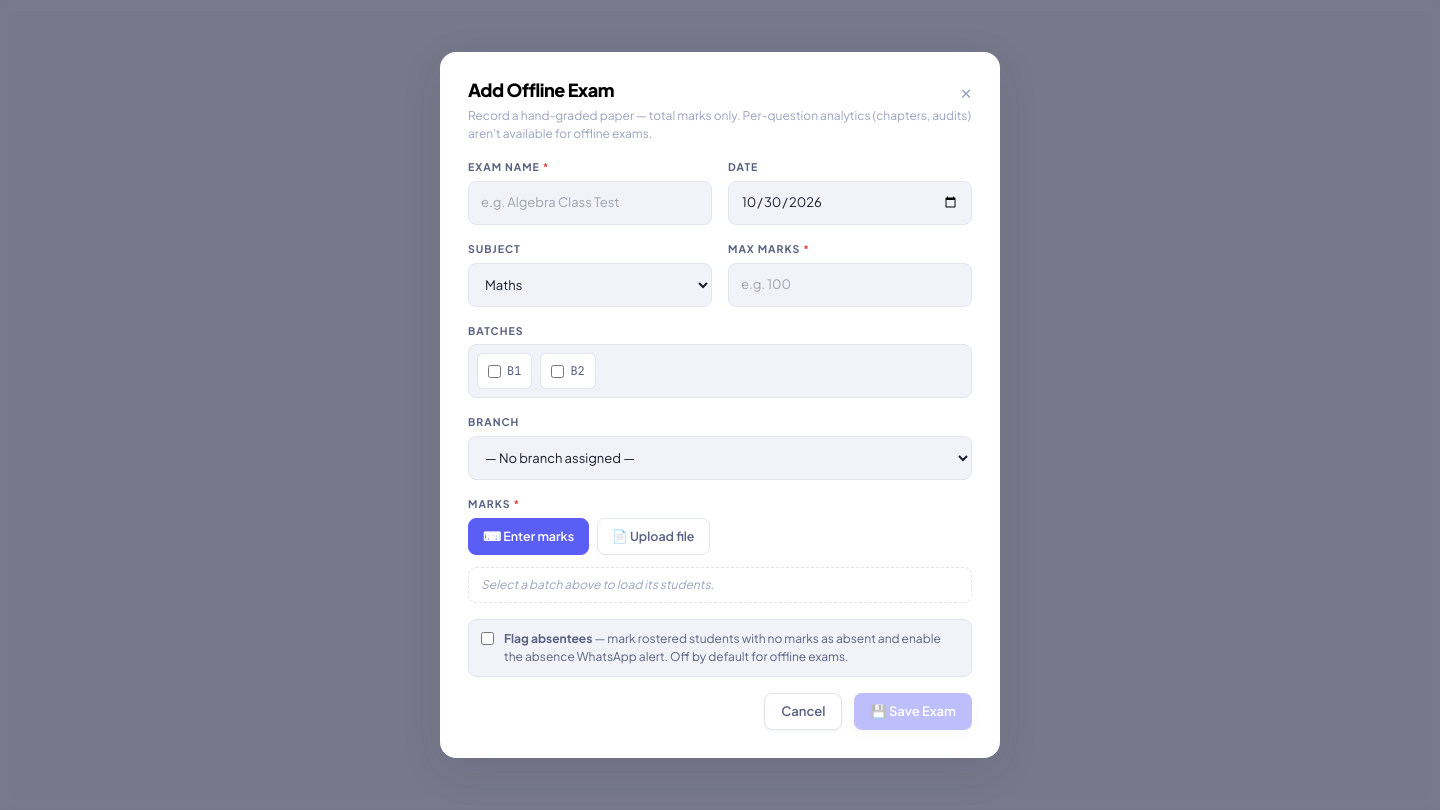
OfflineExamModal — roster grid › loads the selected batch roster as one row per student
This screenshot has width=1440, height=810.
Click the checkbox labelled "B1" at (494, 371), box left=488, top=365, right=501, bottom=378
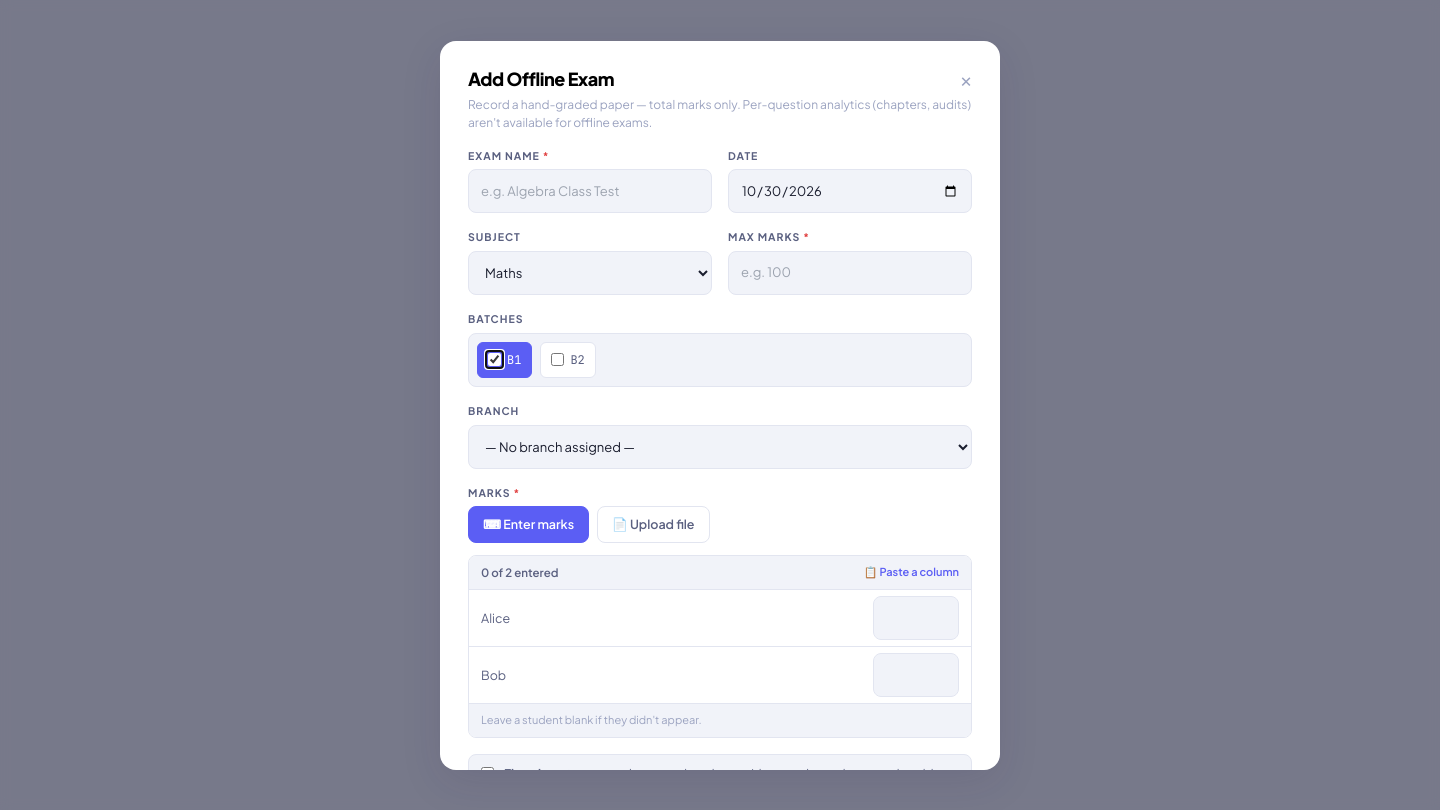
Result: the text "Alice" is shown at left=469, top=590, right=861, bottom=647
Result: the text "Bob" is shown at left=469, top=647, right=861, bottom=703
